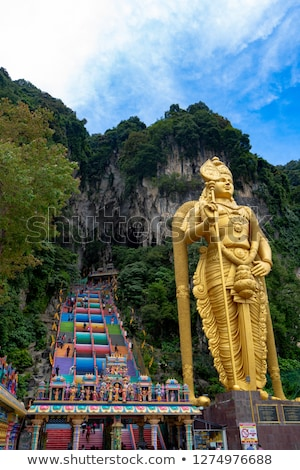Hindu Temple: (168, 152, 284, 404)
